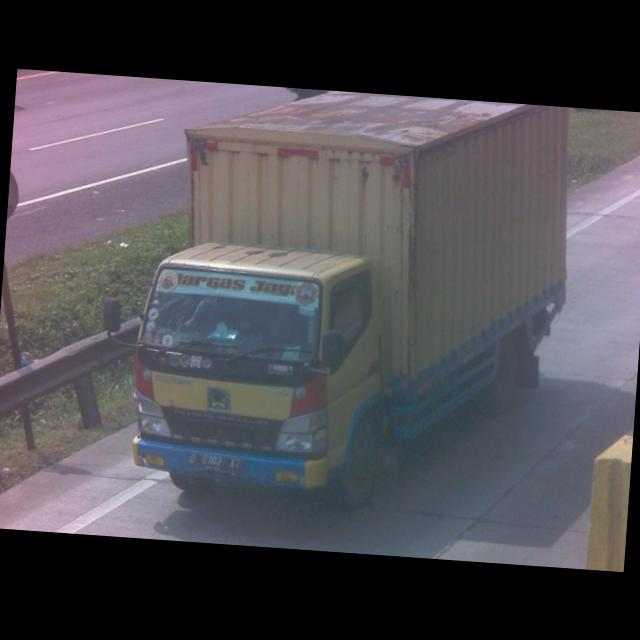plate: (185, 450, 242, 474)
